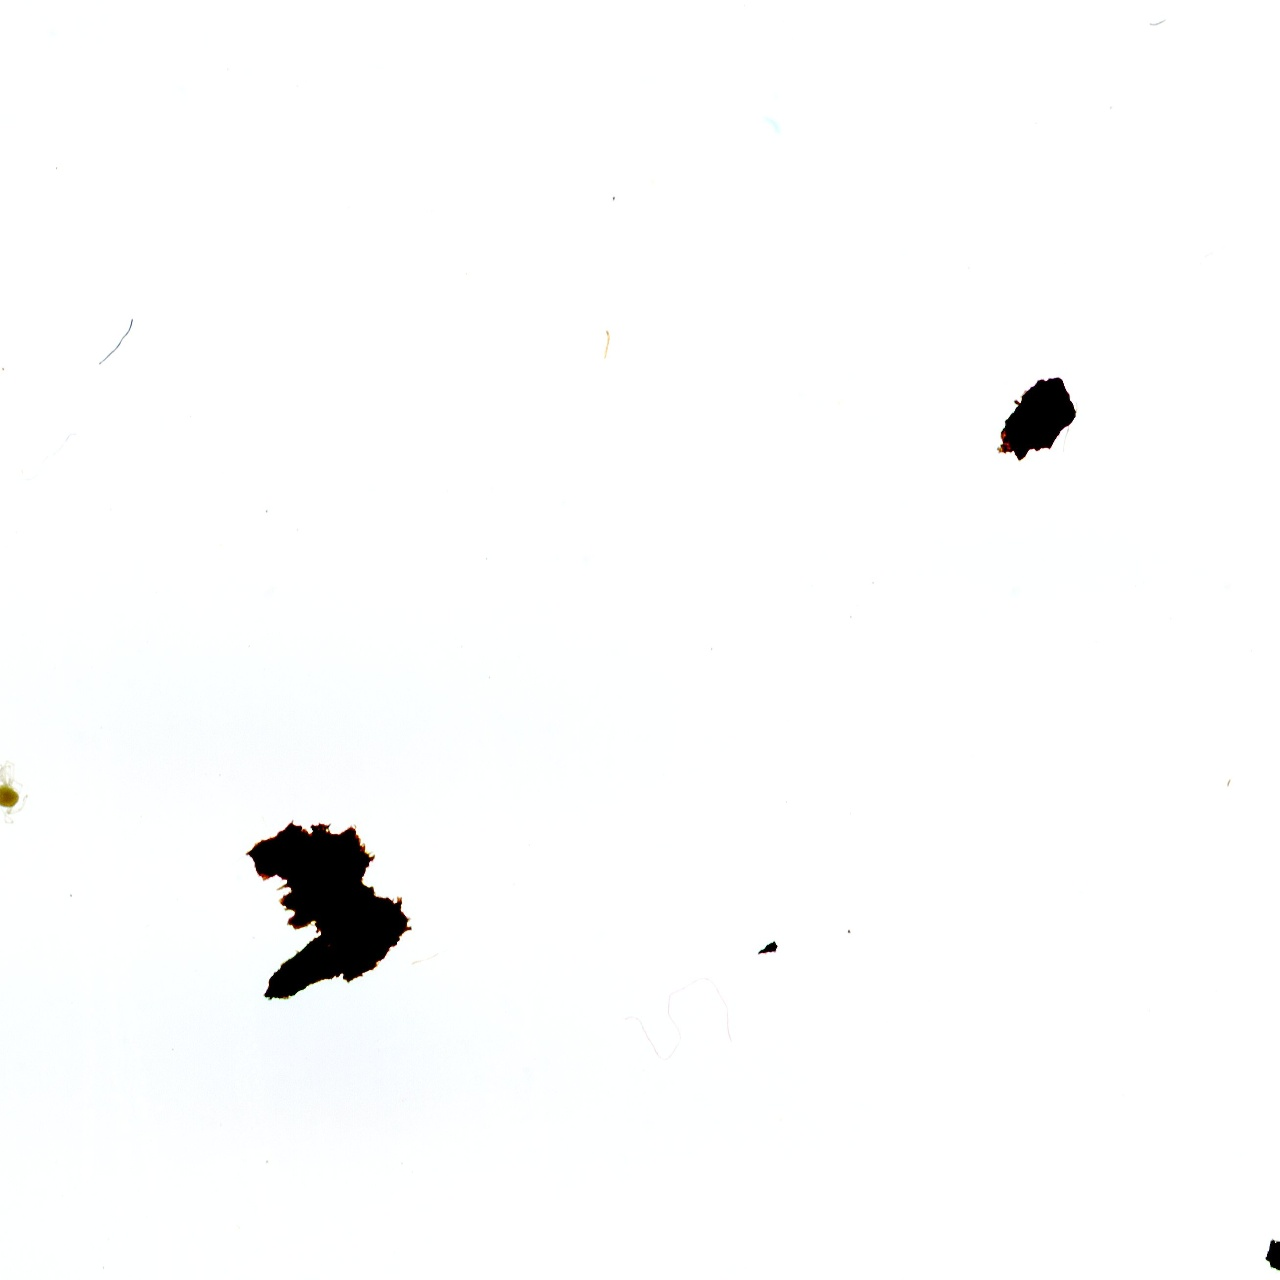arthropod: (0, 757, 29, 825)
